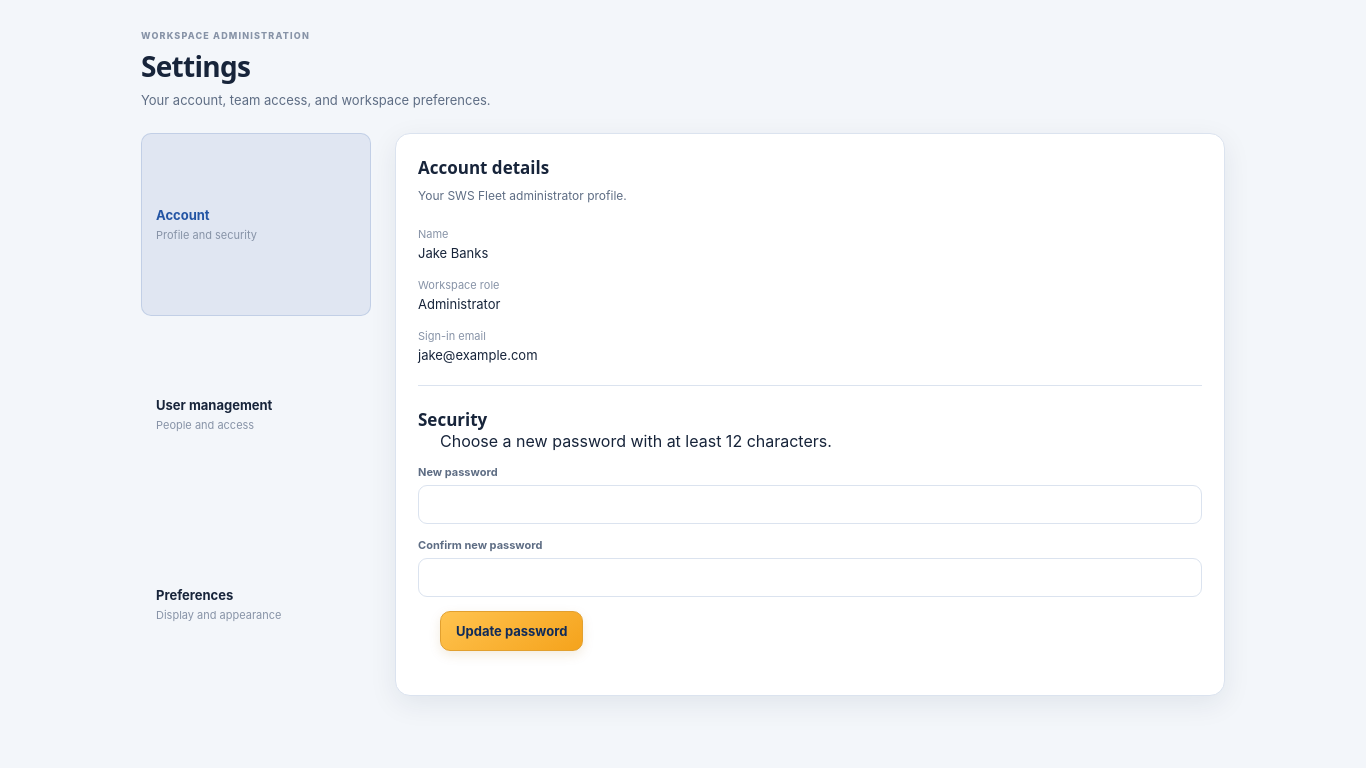
Scenario: reports storage failure without applying unsaved preferences
expect the text "jake@example.com" is shown: met, box [418,347,538,363]
What coordinates should you click on to do the following:
click the button "Preferences Display and appearance"
I would click on:
 (256, 605)
Its box is [141,513,371,696].
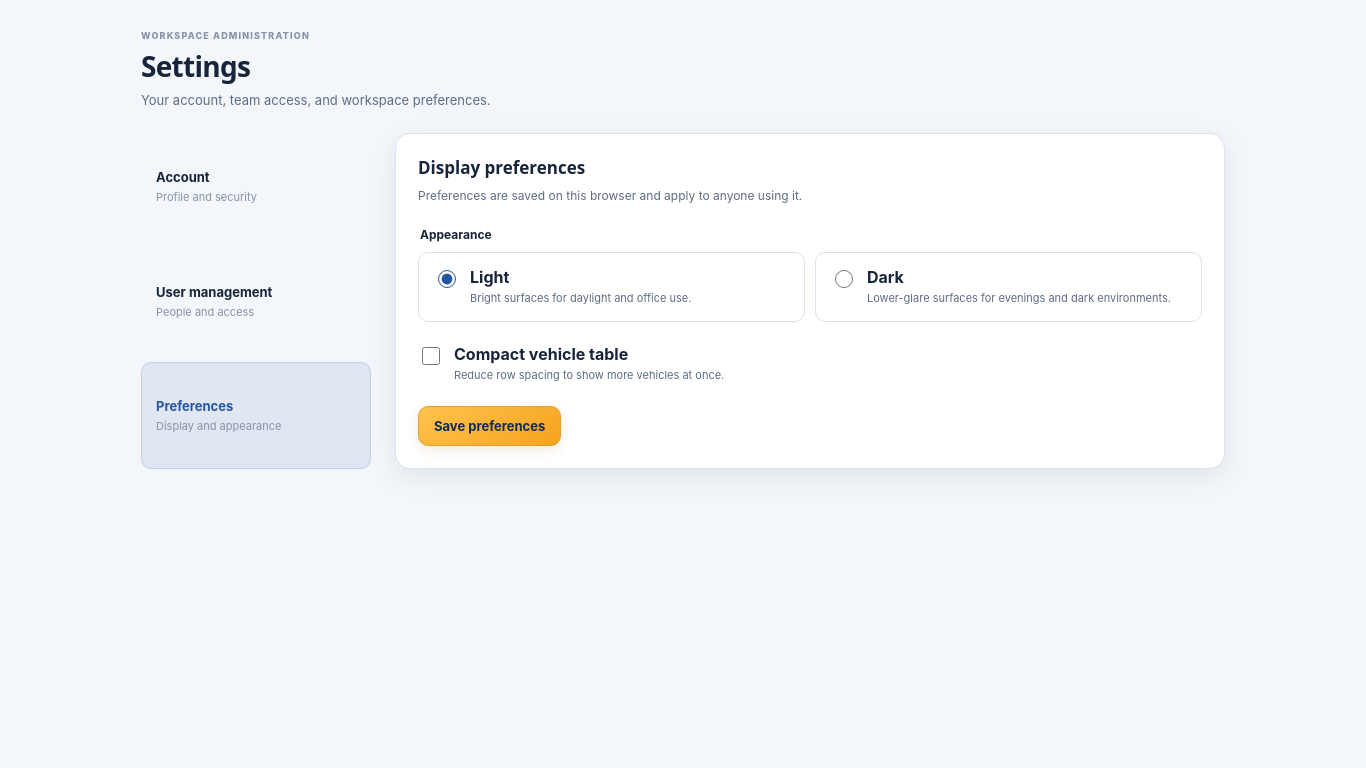
What coordinates should you click on to do the following:
click the button "Save preferences"
I would click on:
 (490, 426)
Its box is [418,406,561,446].
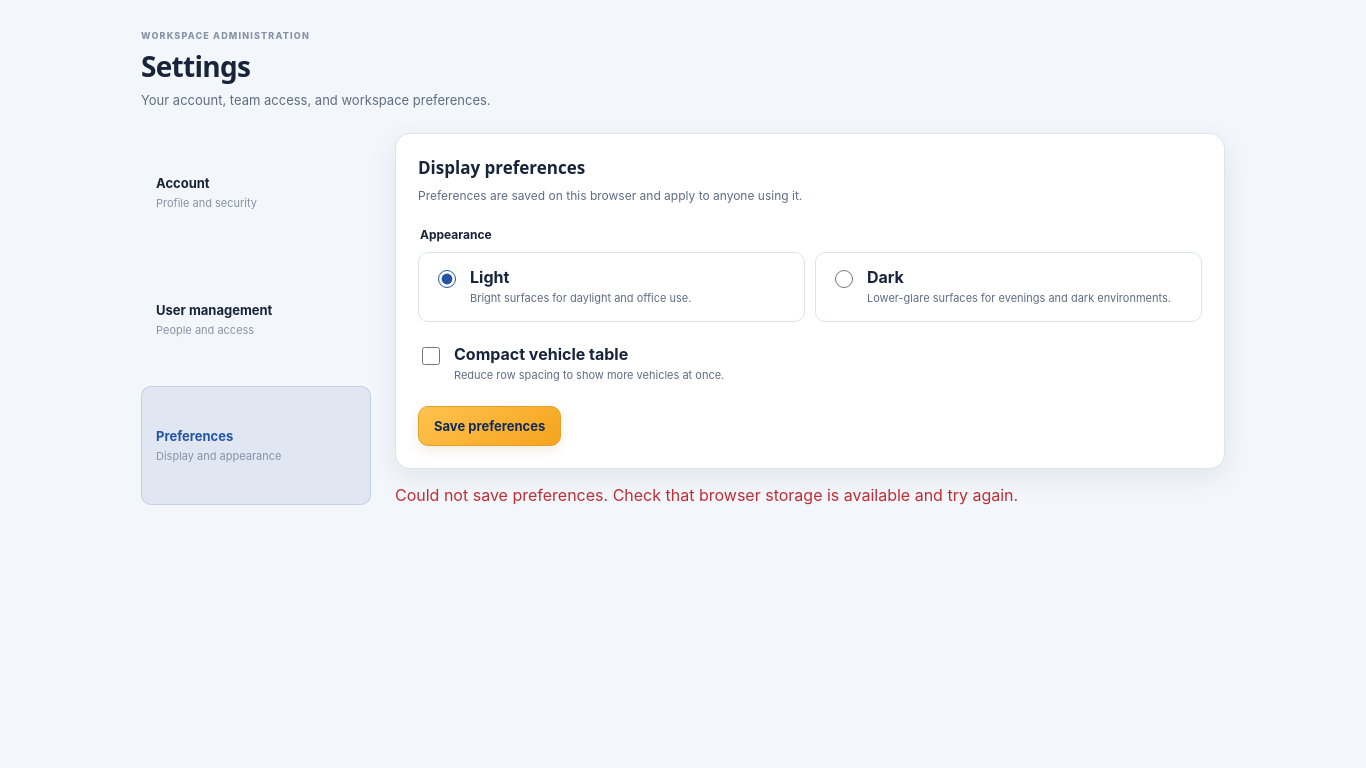
expect the message shows "Could not save preferences": met, box [395,485,1018,505]
